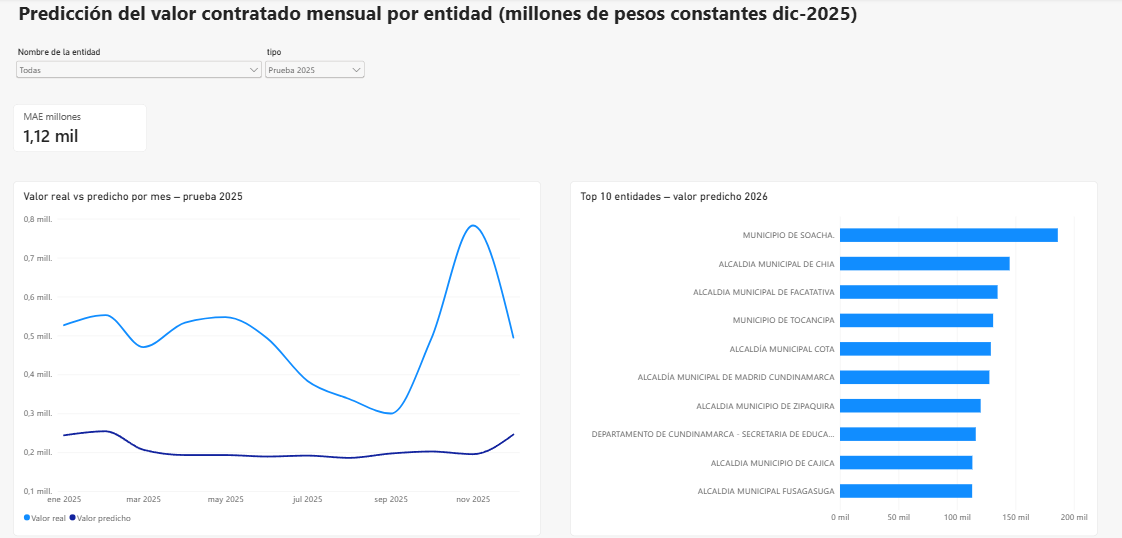

The page's visual inventory and layout, read from the dashboard file:
{"tool":"powerbi","page":{"name":"P4 · Predicciones","canvas":[1920,1080],"ordinal":2},"visuals":[{"type":"textbox","box":[48,48,1728,72],"z":0},{"type":"slicer","fields":{"Values":["dim_entidad.nombre_entidad"]},"box":[48,128,420,66],"z":1000},{"type":"lineChart","title":"Valor real vs predicho por mes – prueba 2025","fields":{"Category":["pred_valor_mensual.FechaMes.Variation.Jerarquía de fechas.Año","pred_valor_mensual.FechaMes.Variation.Jerarquía de fechas.Trimestre","pred_valor_mensual.FechaMes.Variation.Jerarquía de fechas.Mes","pred_valor_mensual.FechaMes.Variation.Jerarquía de fechas.Día"],"Y":["pred_valor_mensual.Valor real","pred_valor_mensual.Valor predicho"]},"box":[48,352,880,592],"z":2000},{"type":"cardVisual","fields":{"Data":["pred_valor_mensual.MAE millones"]},"box":[48,224,223,80],"z":3000},{"type":"clusteredBarChart","title":"Top 10 entidades – valor predicho 2026","fields":{"Category":["dim_entidad.nombre_entidad"],"Y":["pred_valor_mensual.Valor predicho"]},"box":[976,352,880,592],"z":4000},{"type":"slicer","fields":{"Values":["pred_valor_mensual.tipo"]},"box":[464,128,176,64],"z":5000}]}

Visuals, with their boxes on the page's 1920x1080 design canvas (x1, y1, x2, y2). These are canvas units, not pixel positions in the 1122x538 screenshot, which may show the page scaled, cropped or inside an application window:
textbox: pyautogui.locateOnScreen(48, 48, 1776, 120)
slicer - dim_entidad.nombre_entidad: pyautogui.locateOnScreen(48, 128, 468, 194)
"Valor real vs predicho por mes – prueba 2025" lineChart: pyautogui.locateOnScreen(48, 352, 928, 944)
cardVisual - pred_valor_mensual.MAE millones: pyautogui.locateOnScreen(48, 224, 271, 304)
"Top 10 entidades – valor predicho 2026" clusteredBarChart: pyautogui.locateOnScreen(976, 352, 1856, 944)
slicer - pred_valor_mensual.tipo: pyautogui.locateOnScreen(464, 128, 640, 192)
